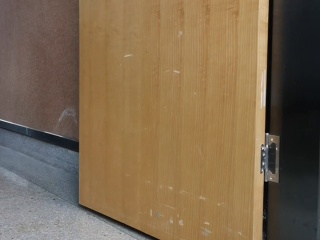room: (52, 4, 309, 240)
